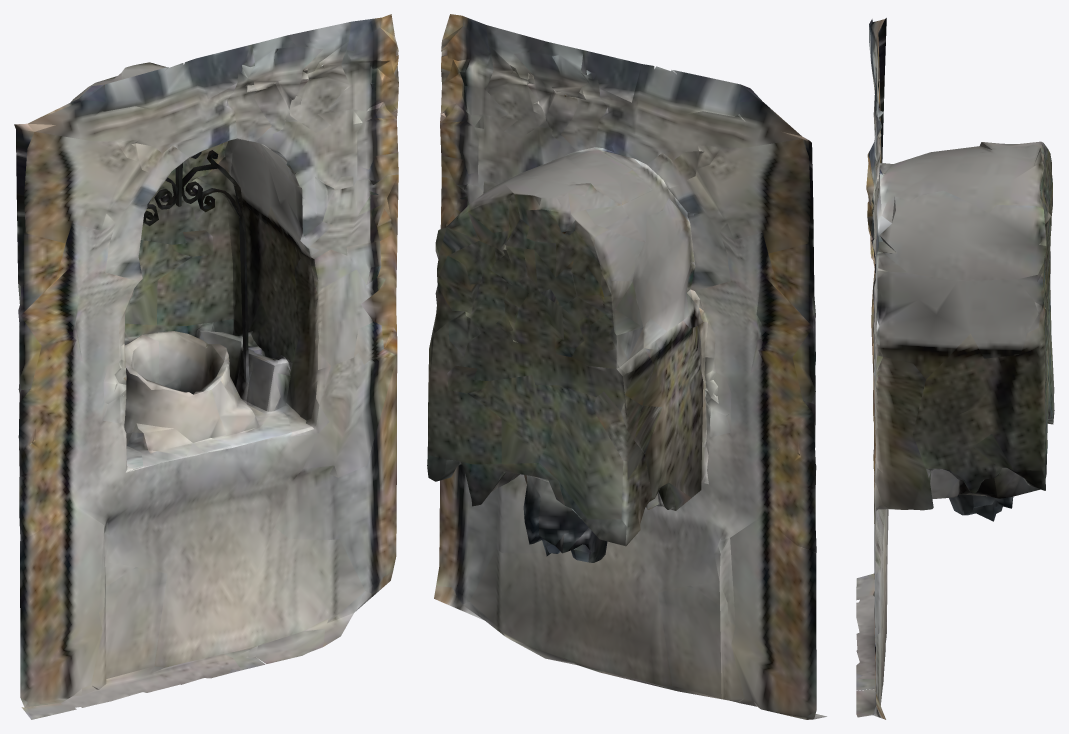
File: traditional-well.glb
3 views of the same model, side by side, from view 1: azimuth 30°, elevation 25°; view 2: azimuth 150°, elevation 25°; view 3: azimuth 270°, elevation 25° (orthographic). The views are drawn at different scales.
Parts seen in each view (by area): view 1: Object_3; view 2: Object_3; view 3: Object_3.
Part boxes in pixels (box(x1,y1,x2,y2)): Object_3: box(14, 14, 398, 719); Object_3: box(427, 14, 826, 719); Object_3: box(856, 18, 1054, 719).
Size of the model in its own units: 1.29 by 2.01 by 0.6061.
1 material, 1 textured.
